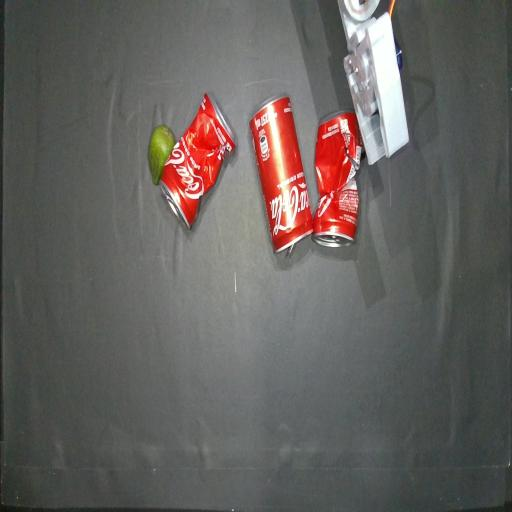higo: (148, 125, 175, 185)
lata: (249, 96, 313, 258)
lata_defectuoso: (160, 94, 235, 227), (313, 111, 363, 247)
